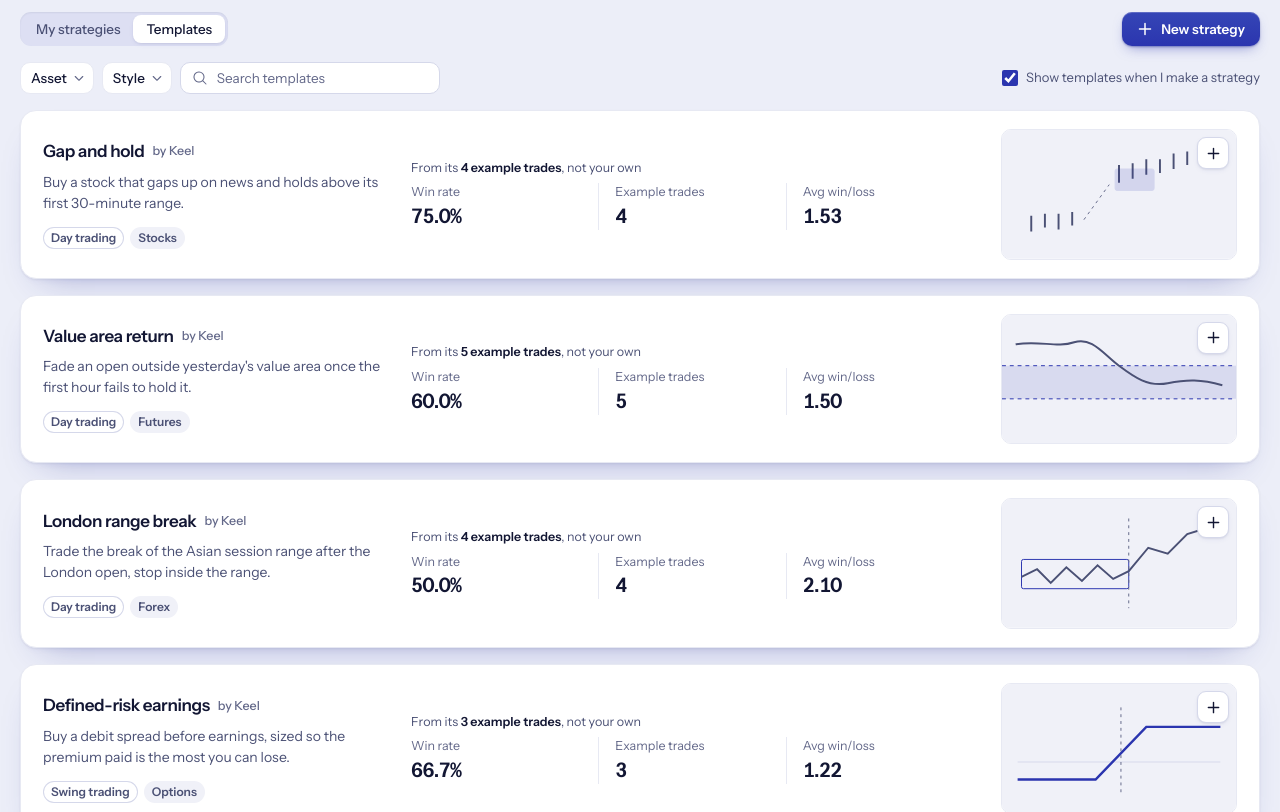
Test: the search reads a template name or its asset class
Expected: the heading "London range break" is shown, left=43, top=510, right=196, bottom=533
In the search field labelled "Search templates": (310, 78) left=180, top=62, right=440, bottom=94, type "crypto"
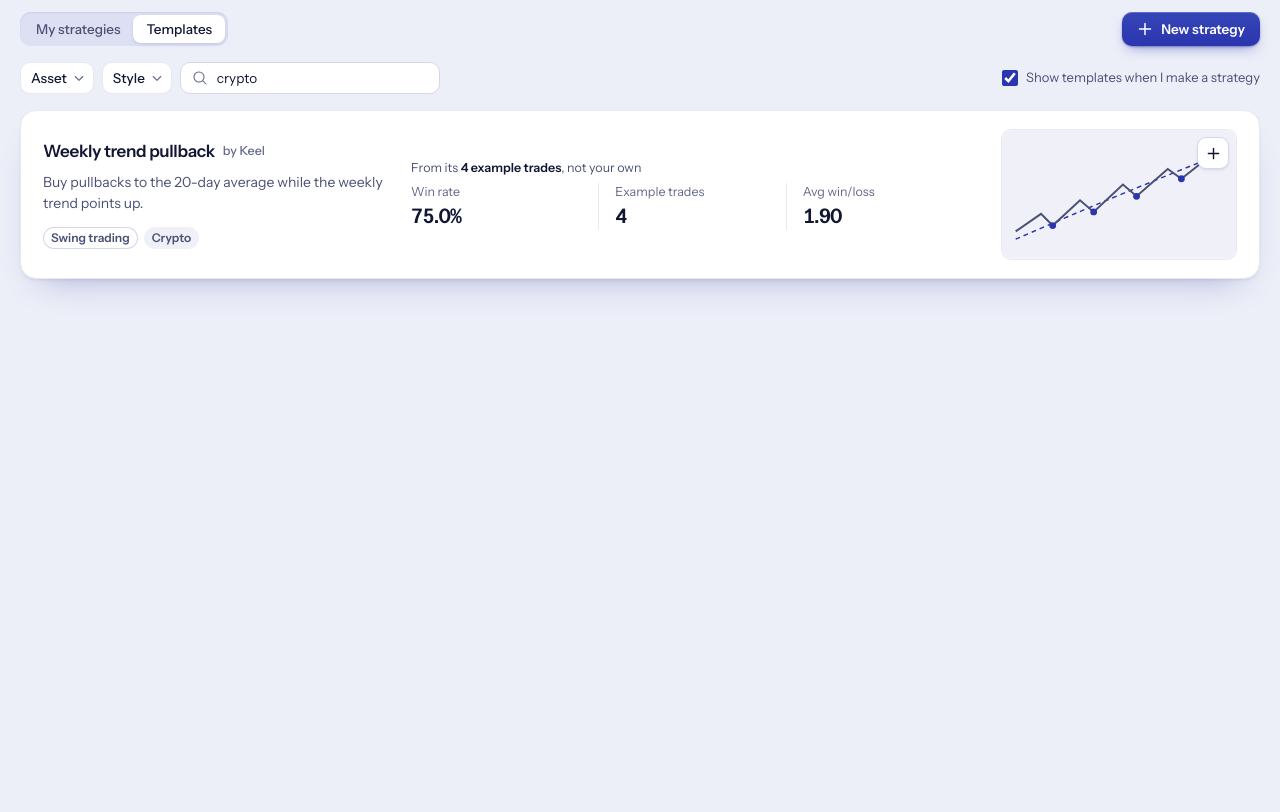
Expected: the heading "Weekly trend pullback" is shown, left=43, top=140, right=215, bottom=164
Expected: the heading "London range break" is gone
Replace the text in the search field named "Search templates" with "london": (310, 78) left=180, top=62, right=440, bottom=94
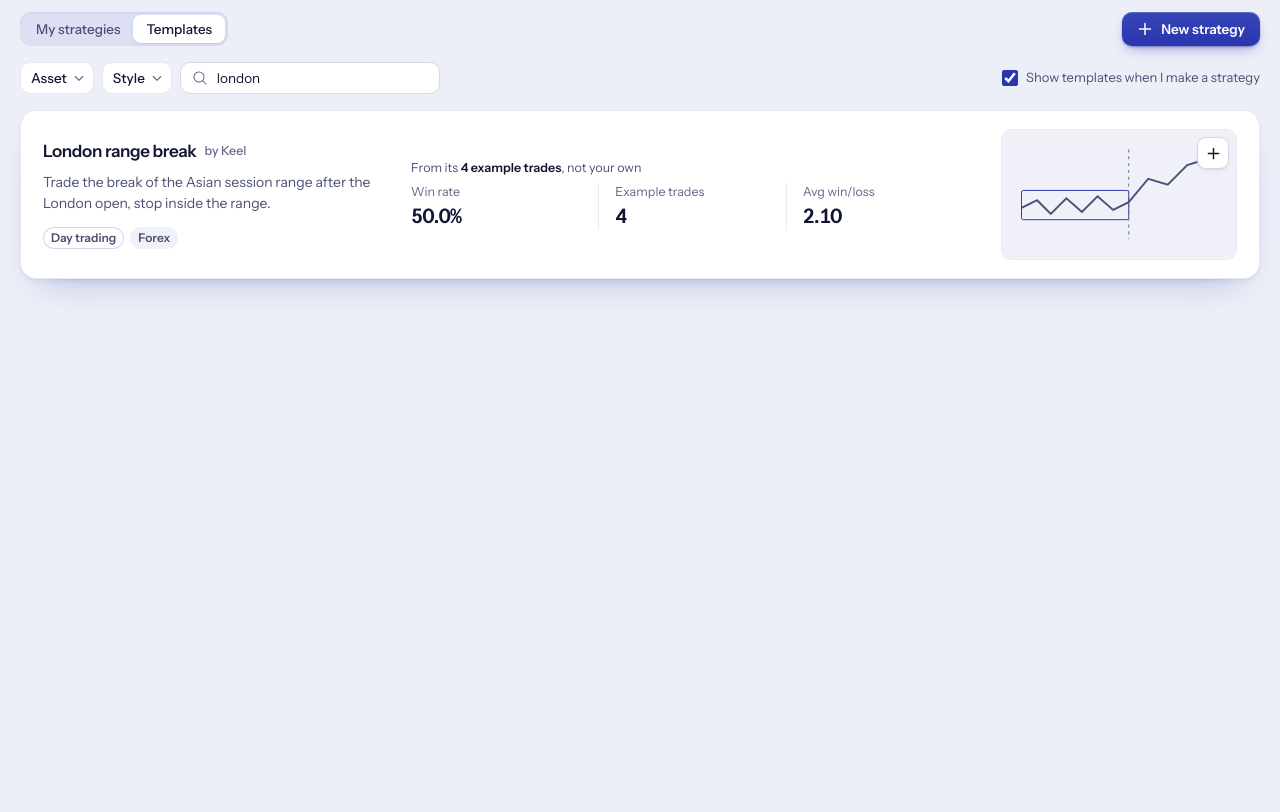
Expected: the heading "London range break" is shown, left=43, top=140, right=196, bottom=164
Expected: the heading "Weekly trend pullback" is gone
